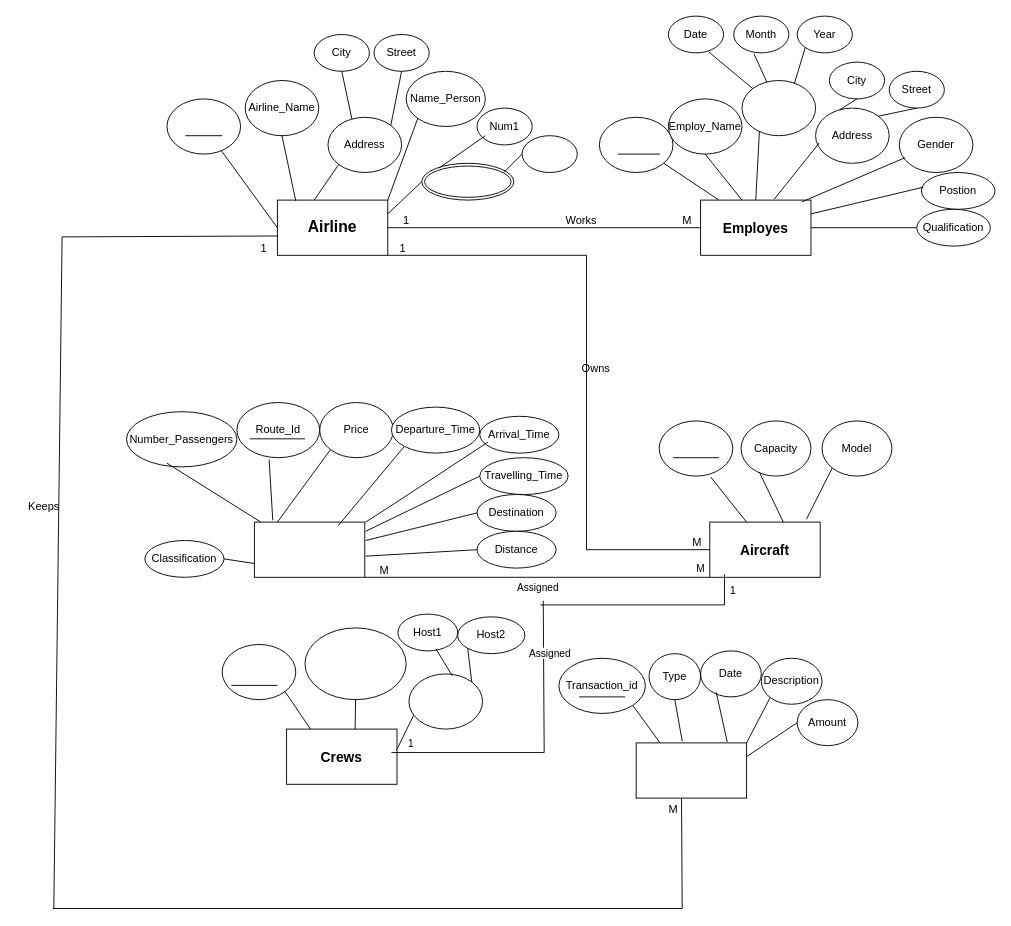
Some shapes in this 1011 by 926 pixel diagram are drawn without their labels. The centre of each missing label's shape, as x and y in pixels:
"Aircraft_Id" belongs at (695,448).
"Airline_Id" belongs at (203,126).
"Assistant_Pilot" belongs at (355,663).
"Date_Birth" belongs at (778,108).
"Employ_Id" belongs at (635,144).
"Hostesess" belongs at (445,701).
"Major_Pilot" belongs at (258,672).
"Num2" belongs at (549,153).
"phones" belongs at (467,181).
"Routes" belongs at (309,549).
"Transactions" belongs at (691,770).
